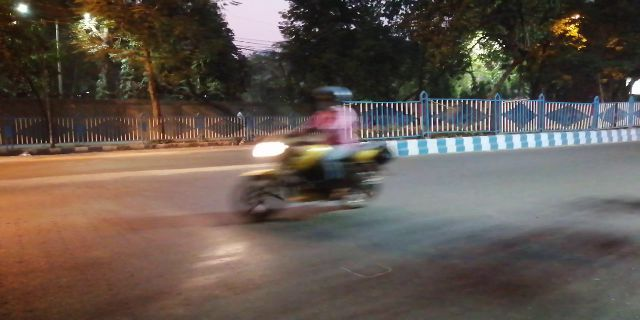Motorbike: (221, 83, 399, 219)
